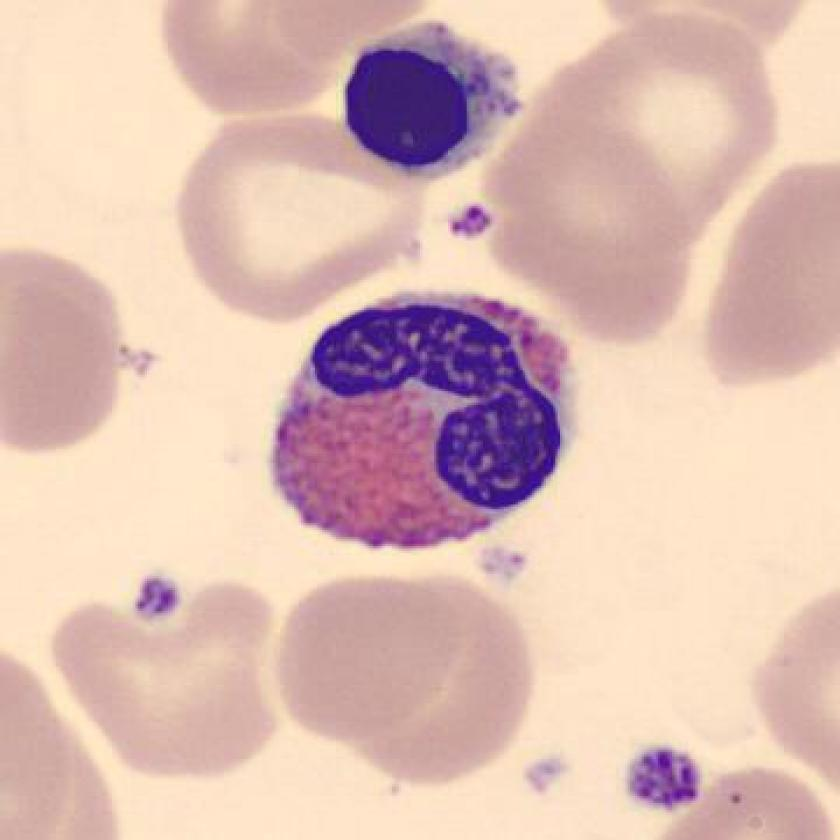eosinophil: (255, 279, 596, 568)
